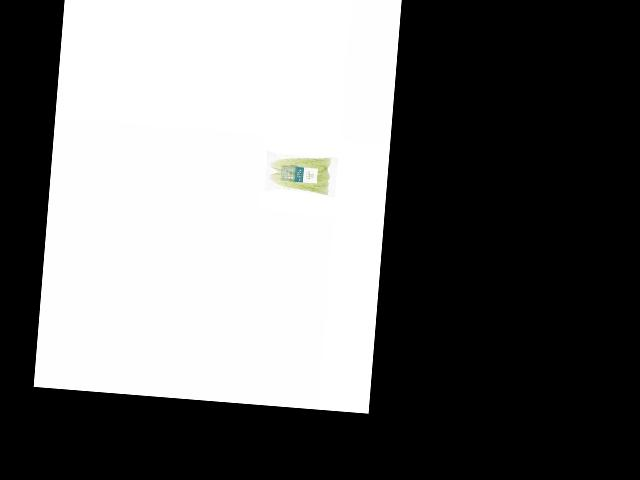lettuce: (267, 148, 333, 195)
